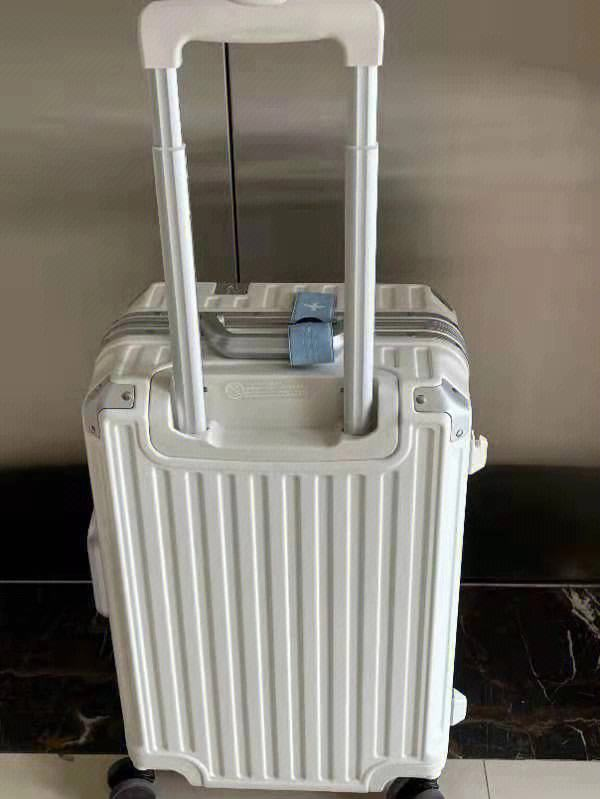box: (81, 281, 472, 793)
handle: (198, 312, 345, 359)
wheel: (107, 755, 157, 799), (385, 776, 445, 799)
